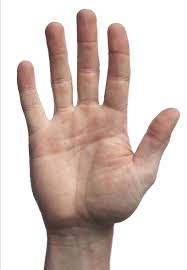open_hand: (5, 5, 185, 227)
